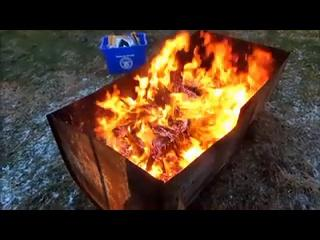fire: (95, 31, 272, 182)
